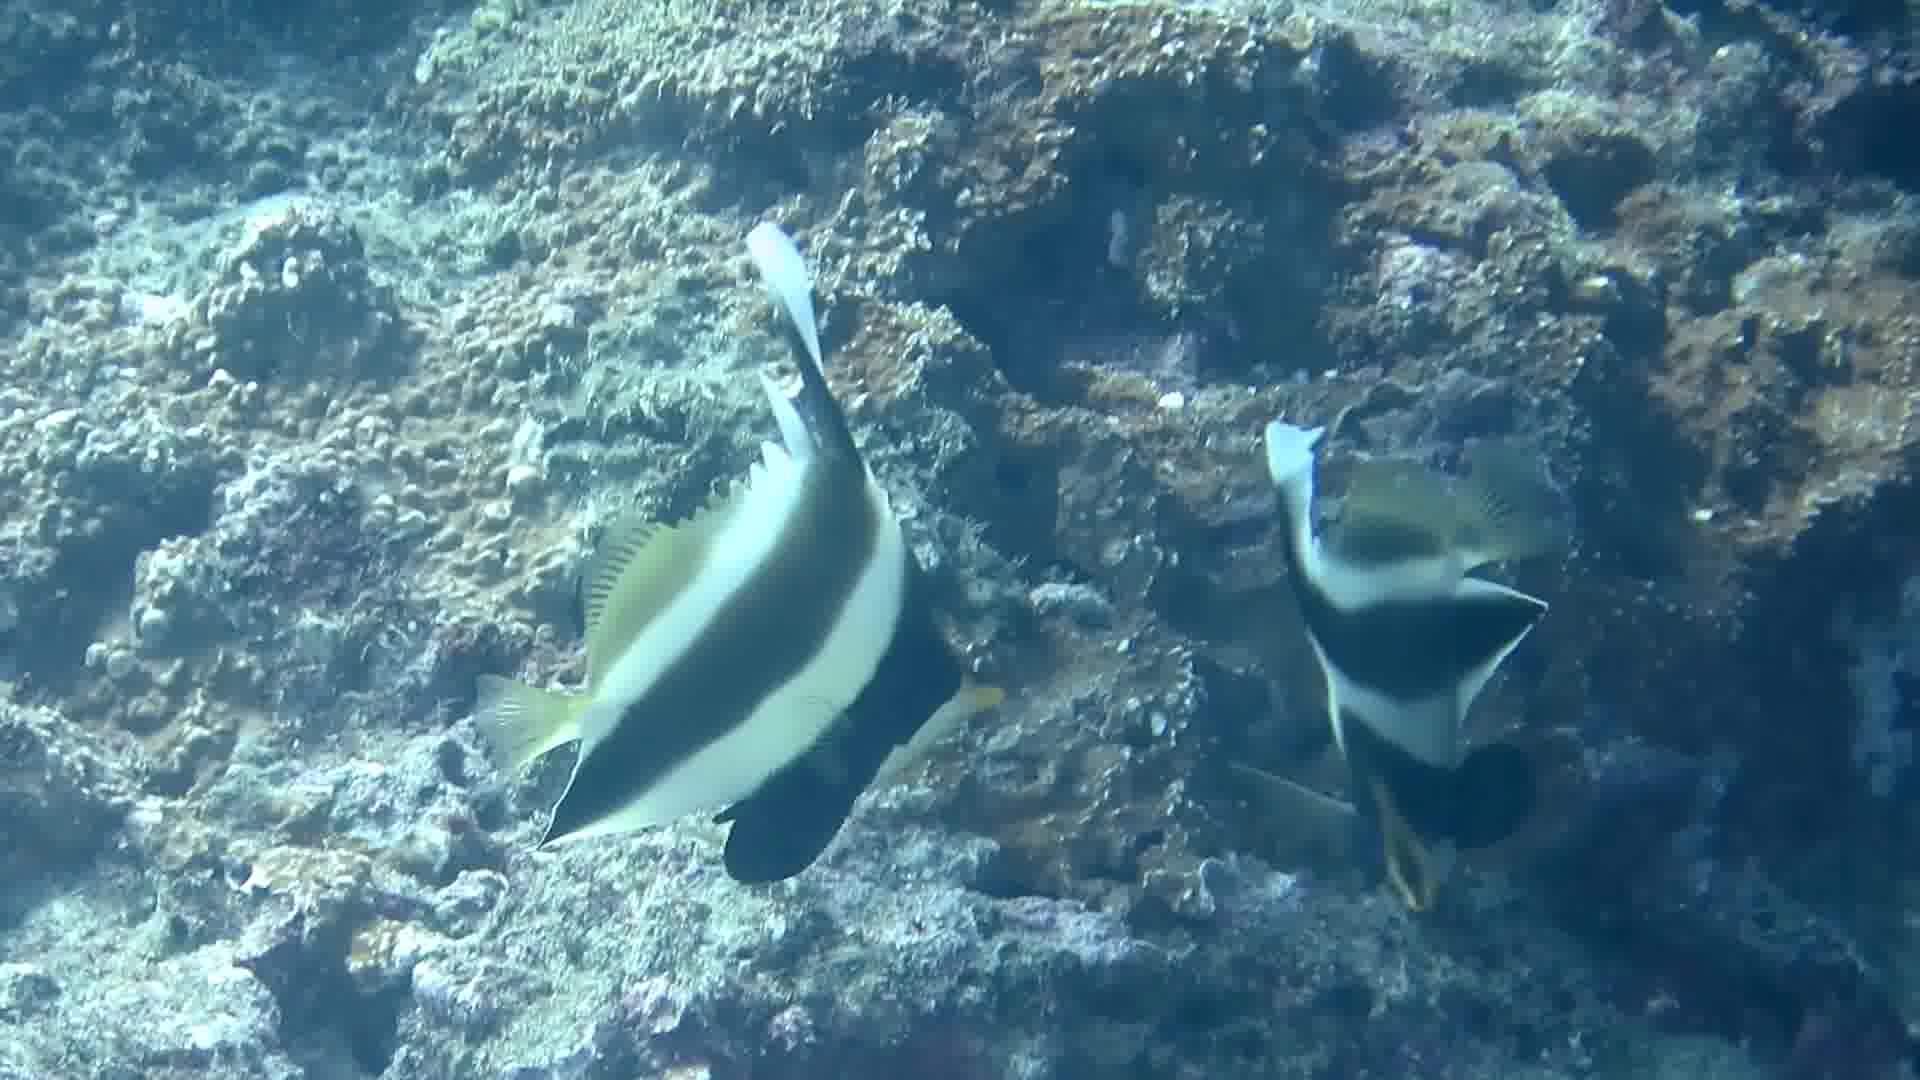Heniochus chrysostomus: (1185, 167, 1727, 935), (473, 175, 1015, 943)
